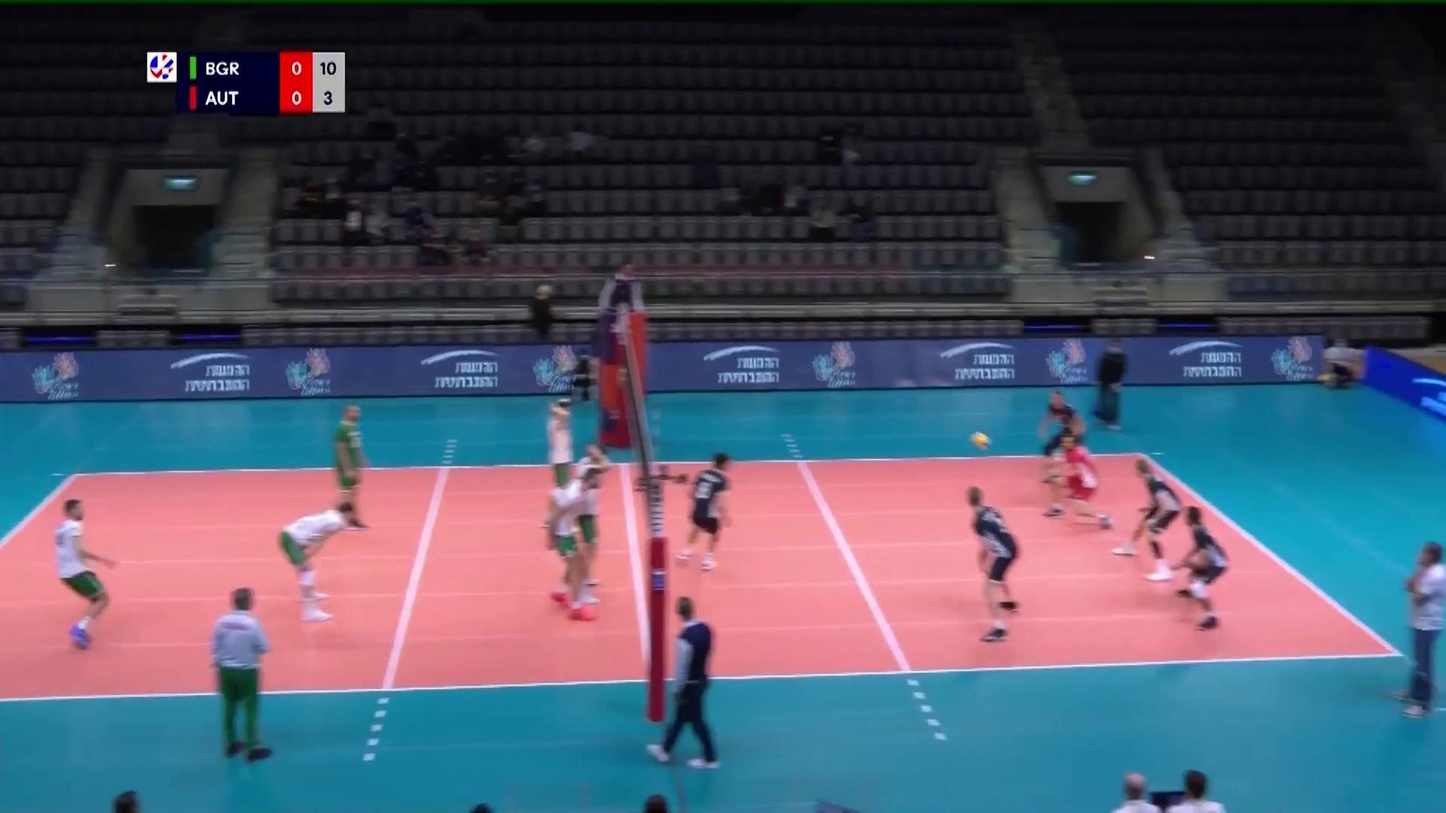ball: (973, 432, 992, 449)
